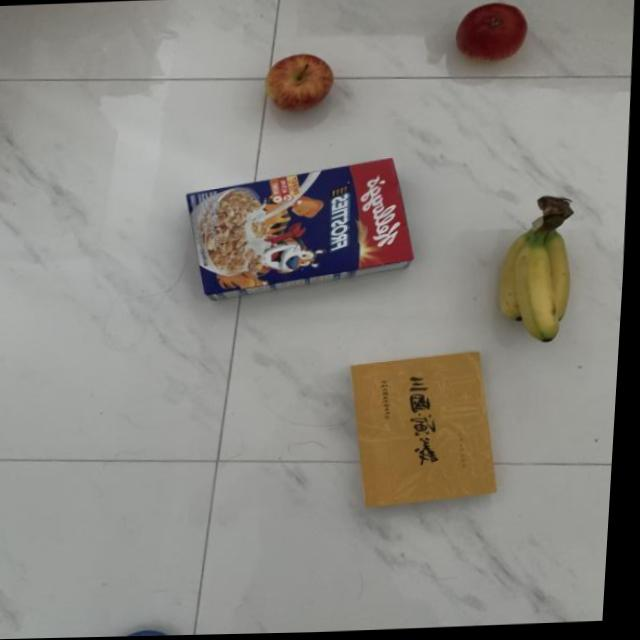Apple: (450, 1, 532, 65), (259, 53, 334, 117)
Banana: (489, 198, 583, 350)
Book: (341, 350, 515, 512)
Cerealbox: (178, 152, 426, 305)
